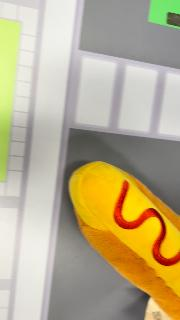hotdog: (68, 160, 180, 320)
